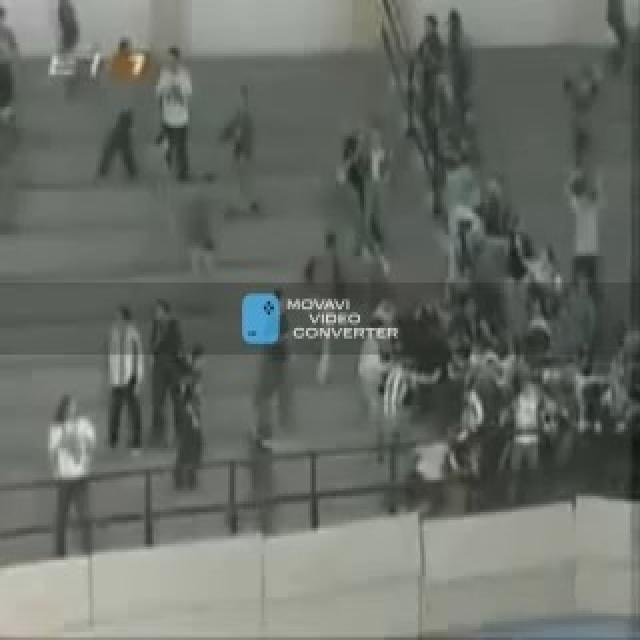non-voilence: (0, 0, 638, 560), (46, 392, 96, 555), (152, 43, 192, 178), (240, 291, 280, 344)
